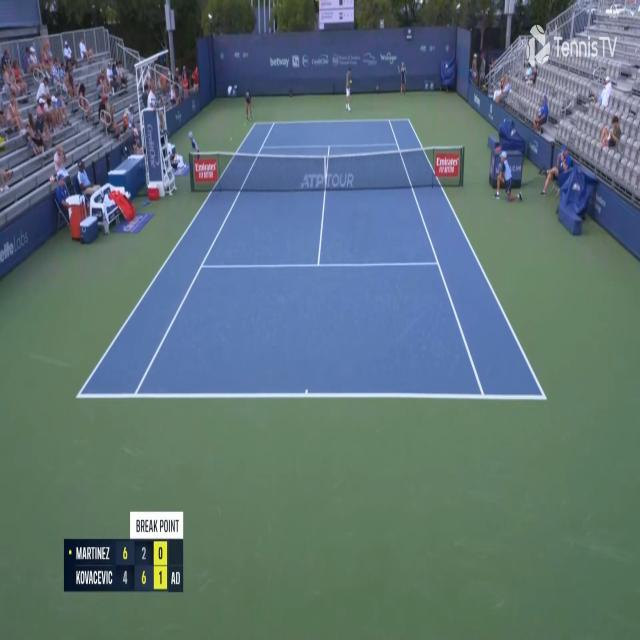tennis-player: (344, 65, 354, 112)
